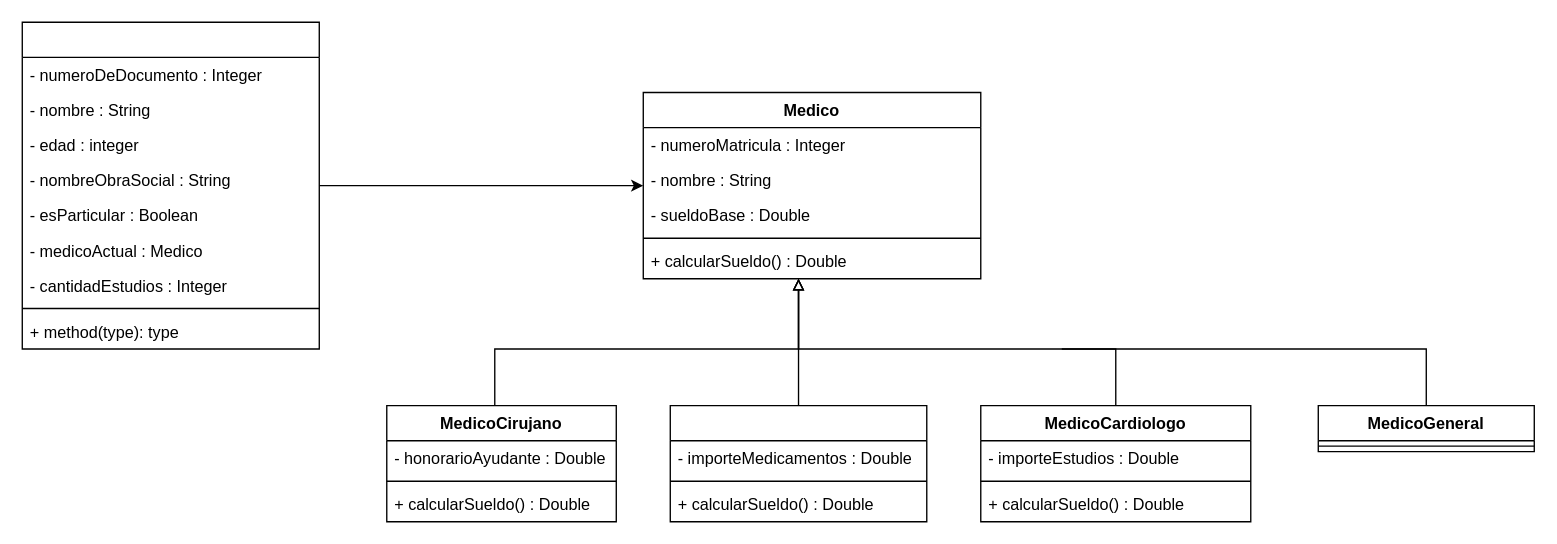
Some shapes in this 1557 by 544 pixel diagram are drawn without their labels. The shapes that lost their labels are listed below. From the top down, each one's box as (x1, y1, x2, y2) in pixels, then its label:
(21, 21, 319, 349): Paciente
(669, 404, 927, 522): MedicoDermatologo
